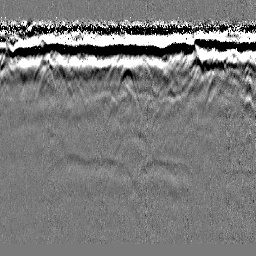cavity: (116, 59, 137, 97)
